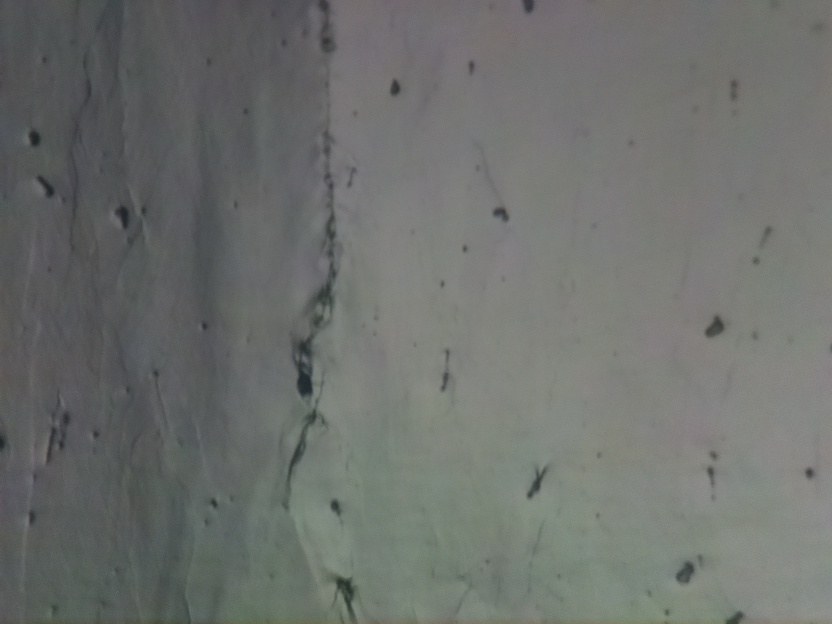crack: (293, 64, 335, 392)
